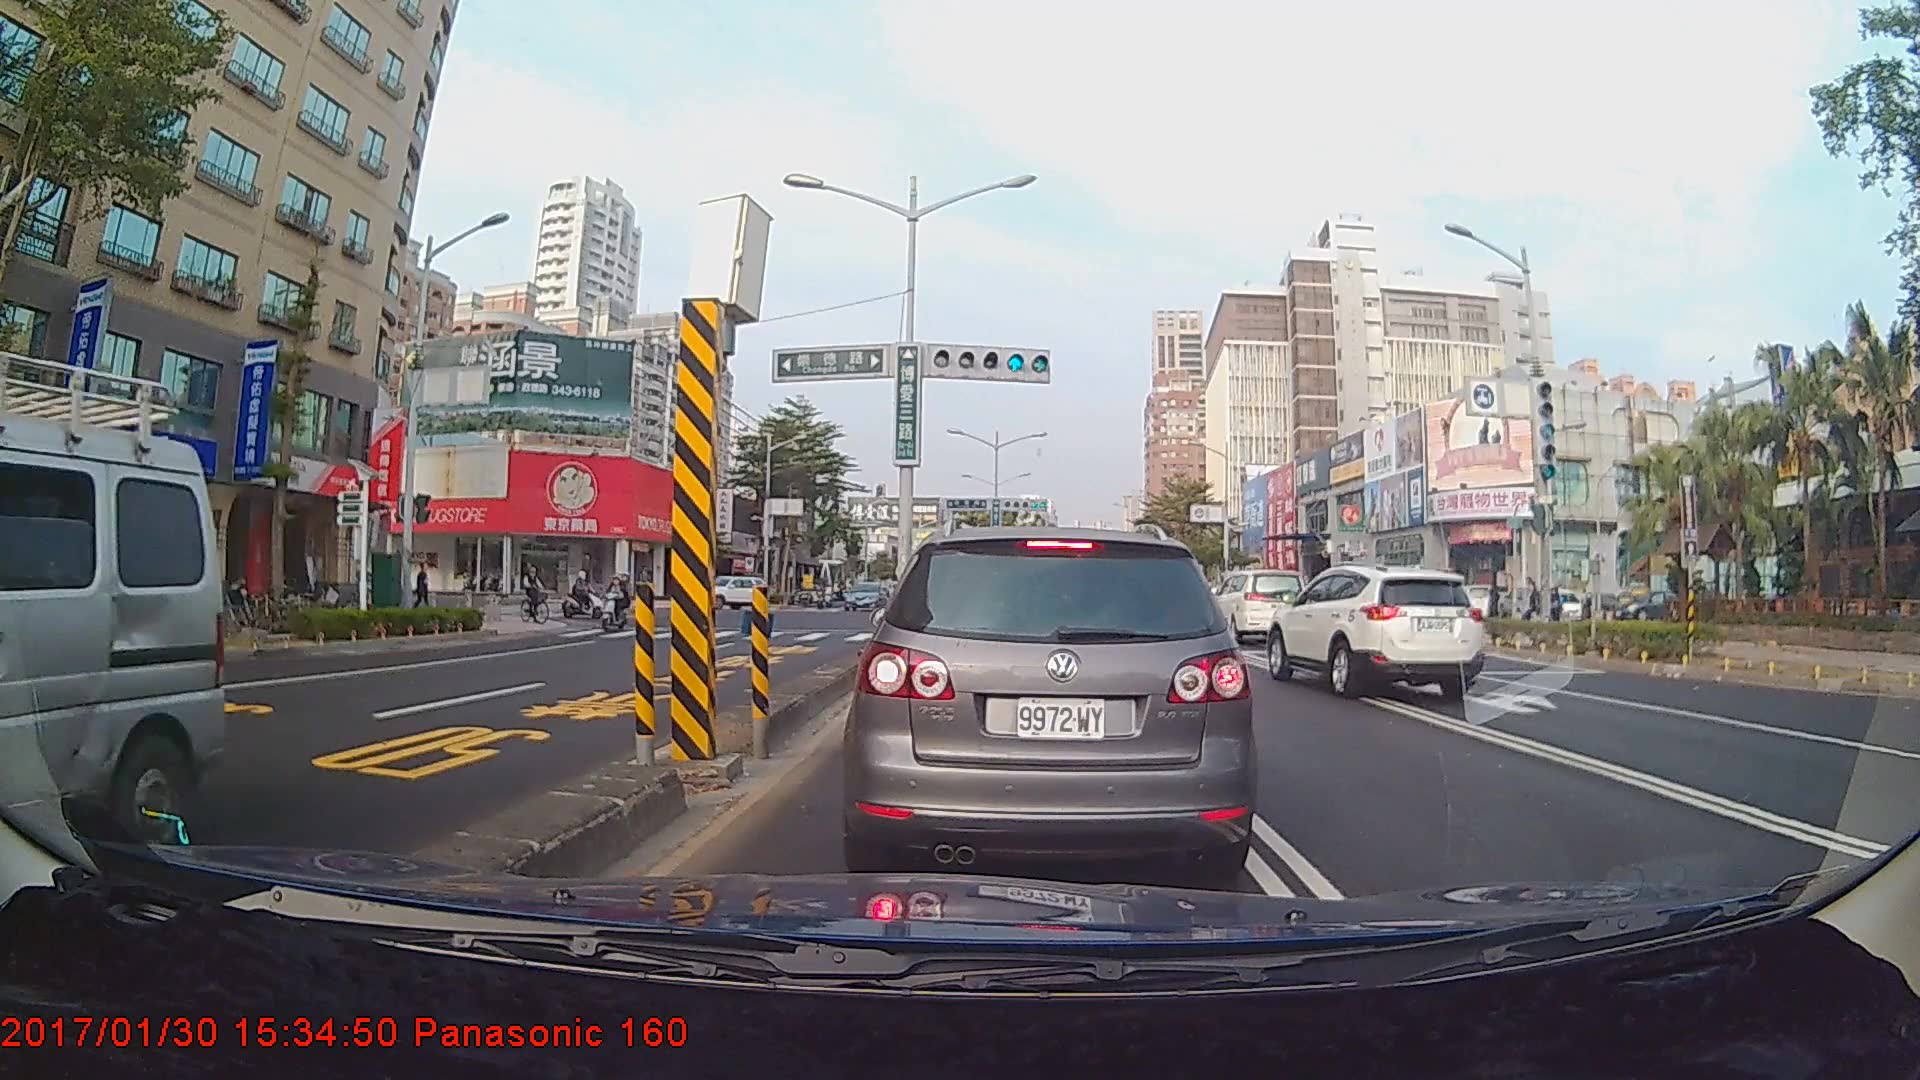pedestrian: (411, 558, 435, 621), (1486, 579, 1508, 637)
rider: (562, 568, 614, 625), (598, 570, 638, 639), (518, 559, 553, 629)
vehicle: (855, 521, 1253, 877), (0, 349, 227, 866), (1266, 562, 1485, 697), (1203, 567, 1308, 643), (844, 581, 886, 612)
